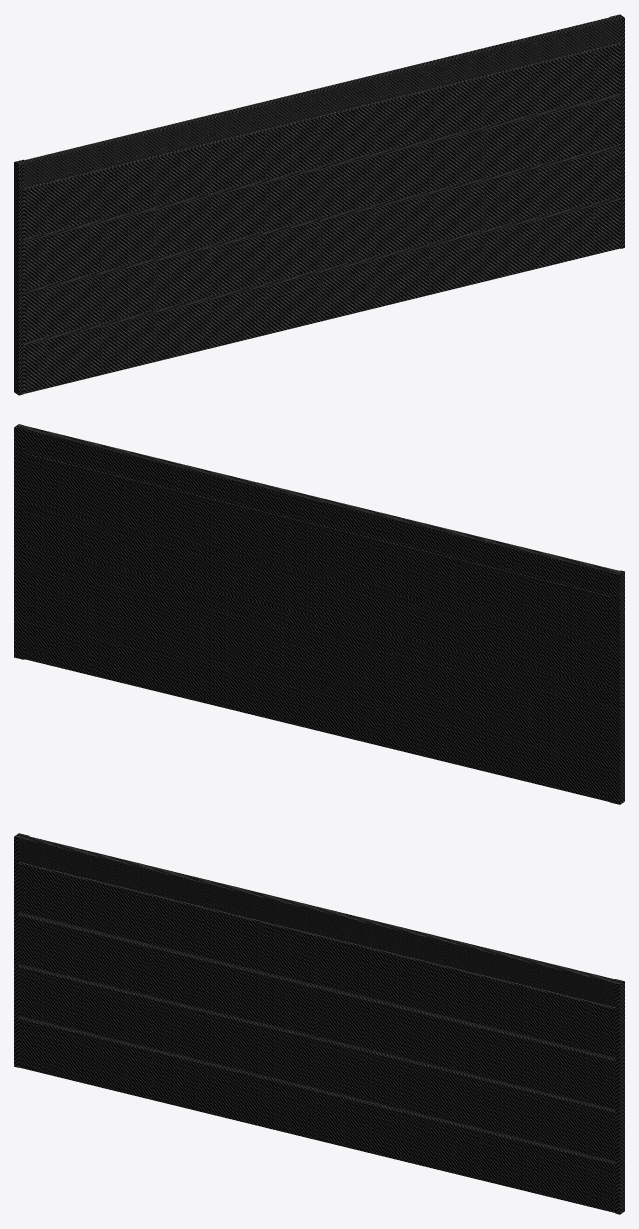
Rendered from backSlashPro80.glb.
3 renders of one model, top to bottom at view 1: azimuth 30°, elevation 25°; view 2: azimuth 150°, elevation 25°; view 3: azimuth 330°, elevation 25°, orthographic.
Parts seen in each view (by area): view 1: backsplashBlackCarbonFiber80; view 2: backsplashBlackCarbonFiber80; view 3: backsplashBlackCarbonFiber80.
Boxes of the visible parts, x1,y1,x2,y2 form: backsplashBlackCarbonFiber80: (14,14,624,395); backsplashBlackCarbonFiber80: (14,424,624,804); backsplashBlackCarbonFiber80: (14,833,624,1214).
Size of the model in its own units: 1.52 by 0.5532 by 0.0215.
Materials: 3 (2 with a texture image).
